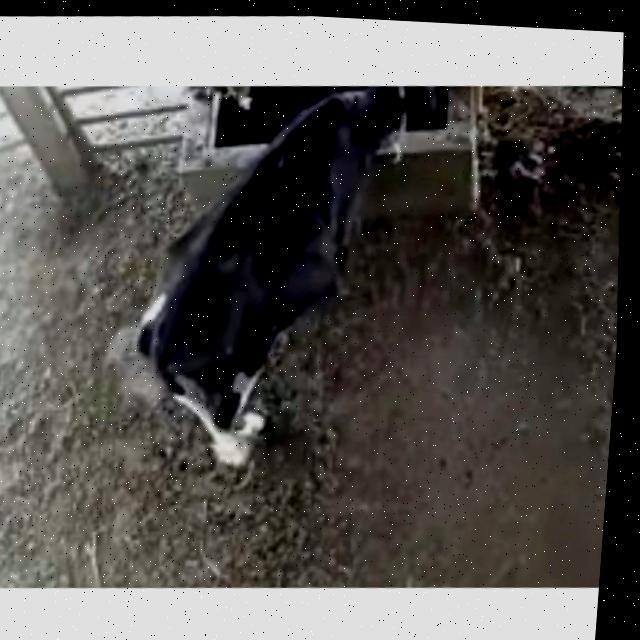drink: (242, 73, 483, 223)
